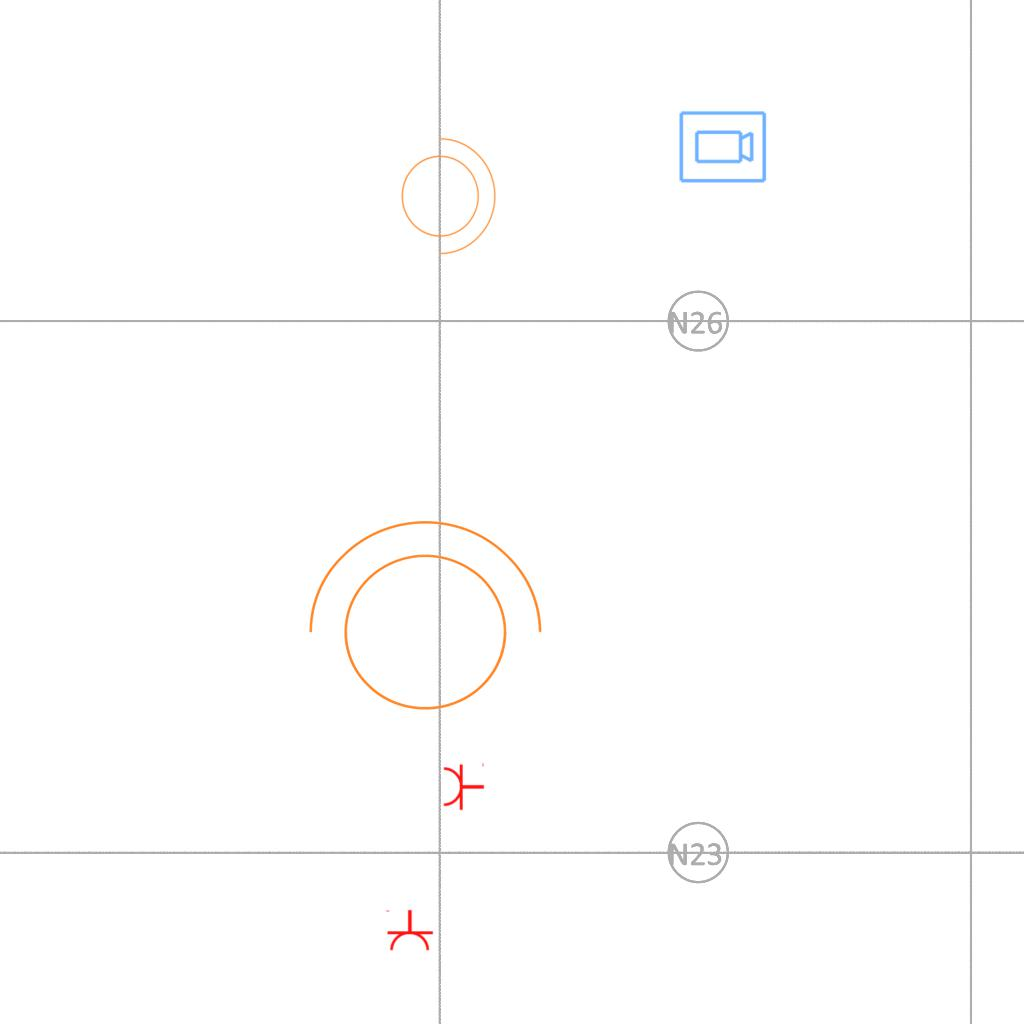KFO_Kamera_mit_Festobjektiv: (677, 109, 768, 186)
Scheinwerfer_fuer_Alarmbeleuchtung: (287, 510, 551, 735), (389, 127, 501, 259)
Schukosteckdose_einfach: (442, 761, 485, 811), (384, 909, 434, 952)
